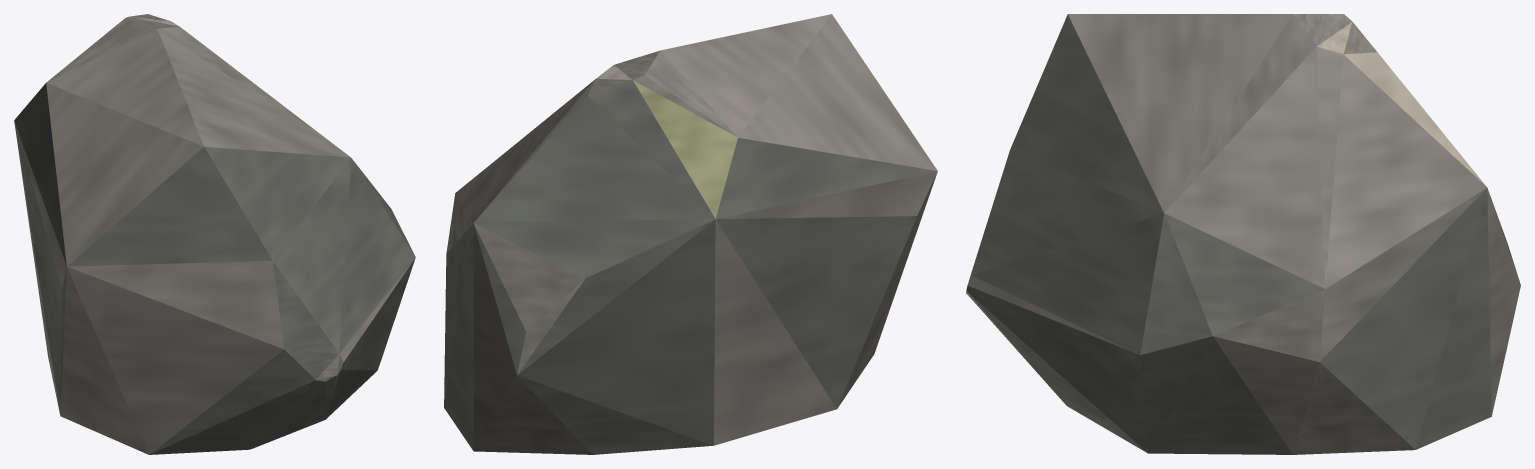
The model's file is rock_small_02.fbx.
The picture shows the model from 3 angles, left to right: view 1: azimuth 30°, elevation 25°; view 2: azimuth 150°, elevation 25°; view 3: azimuth 270°, elevation 25°; orthographic projection. The views are drawn at different scales.
Visible parts, largest first — view 1: rock_small_02; view 2: rock_small_02; view 3: rock_small_02.
Boxes of the visible parts, box(x1,y1,x2,y2) form: rock_small_02: box(14, 14, 415, 454); rock_small_02: box(444, 14, 937, 454); rock_small_02: box(966, 14, 1520, 454).
Bounding box in the file's own units: 0.5147 × 0.4362 × 0.6124.
